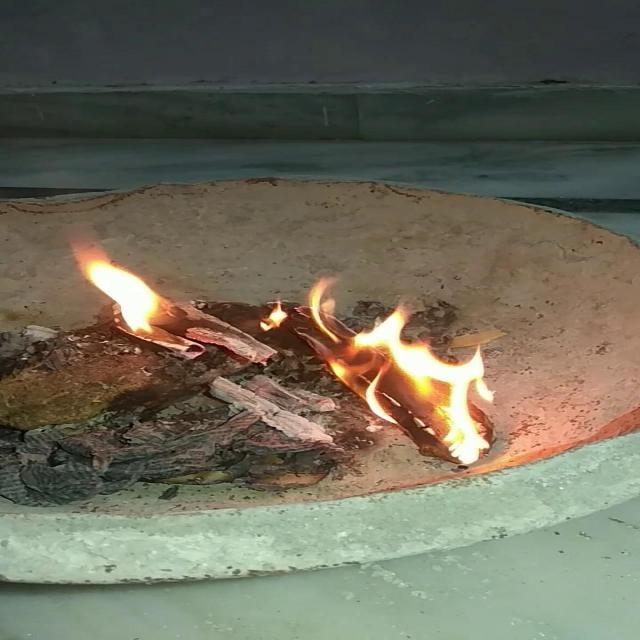fire: (61, 242, 499, 462)
